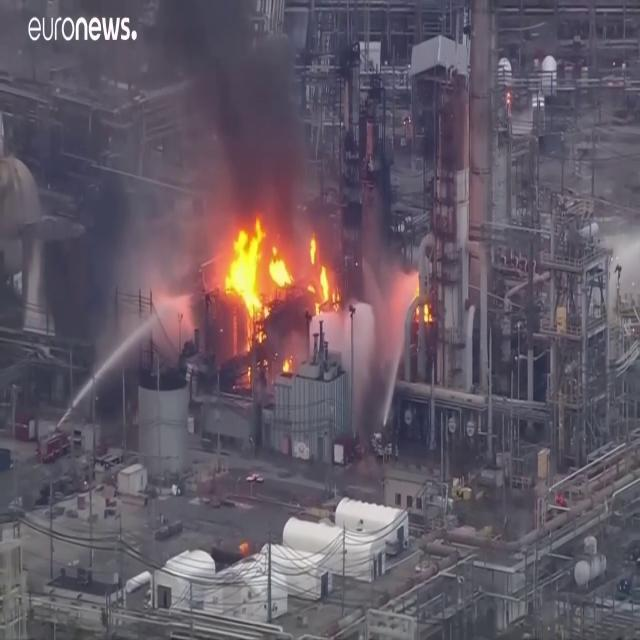Fire: (216, 209, 340, 326)
Smoke: (140, 1, 327, 239)
